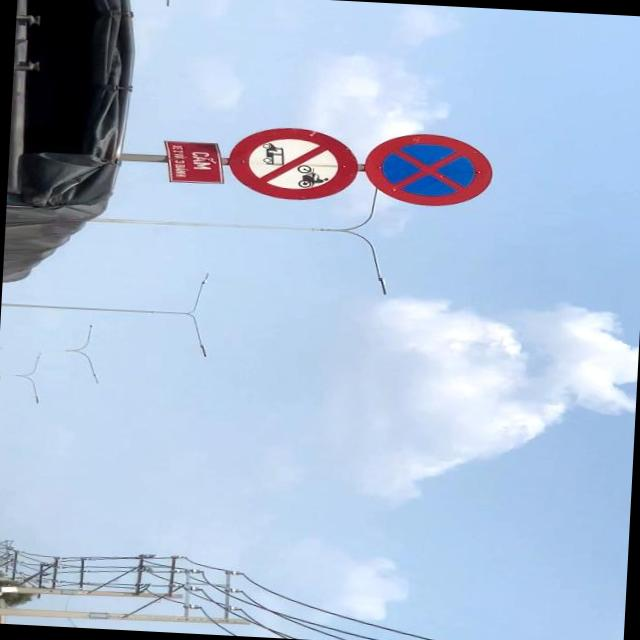P-104: (229, 127, 359, 205)
P-130: (360, 132, 494, 209)
